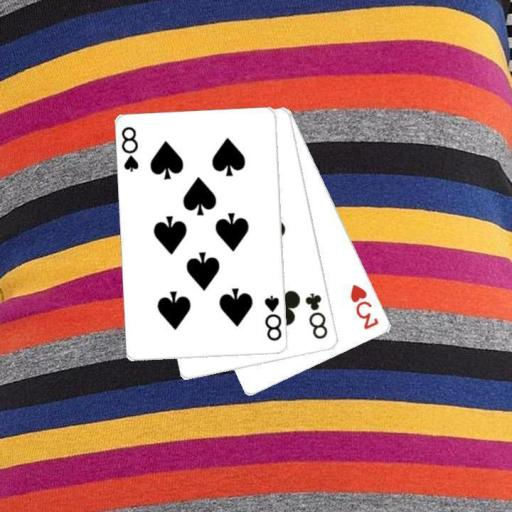card-corner: (347, 281, 380, 331), (302, 290, 330, 341), (119, 124, 141, 174), (262, 292, 283, 343)
